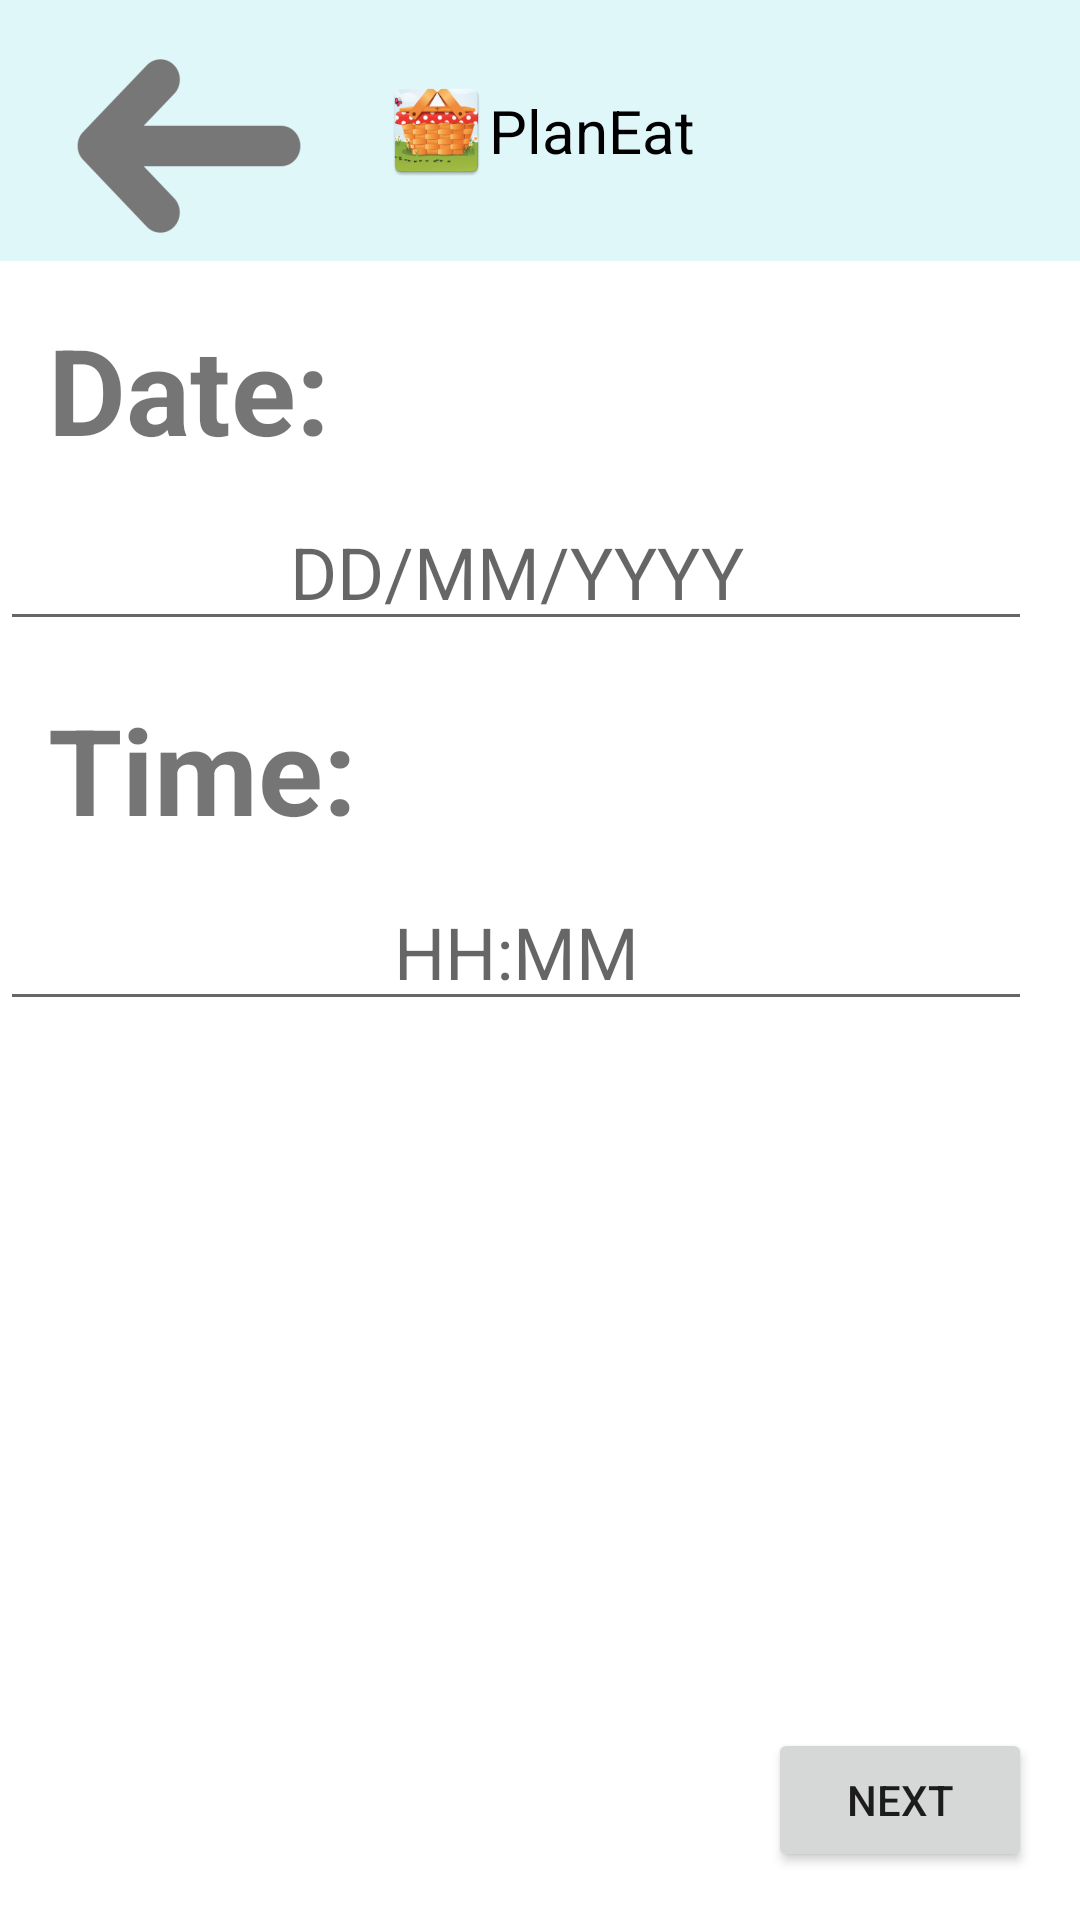

Icon click points for this 1080w x 1920h phone screenshot, format [x,y]:
back arrow: [189,146]
